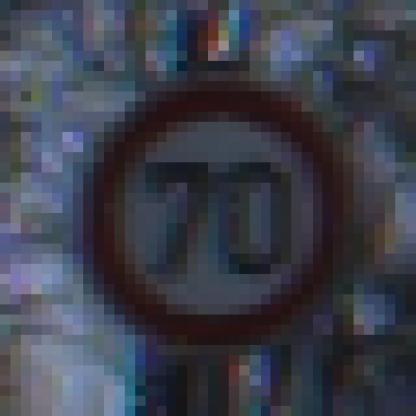Speed Limit 70: (94, 83, 342, 338)
